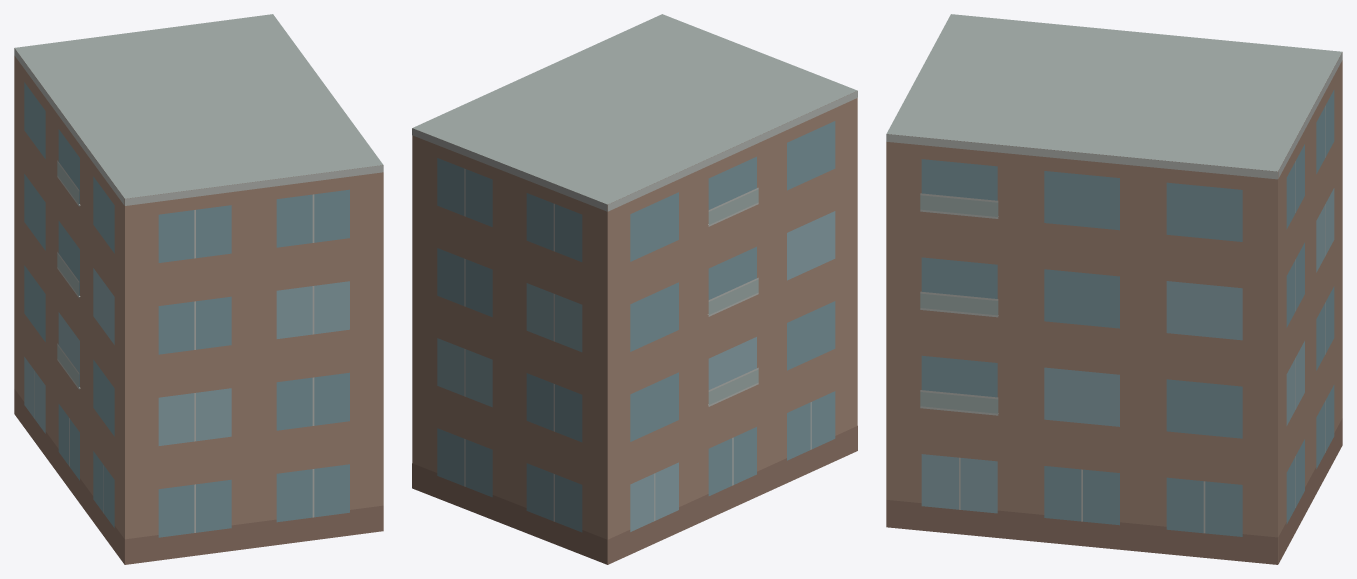
The model's file is residential-b49d4d7a-ee15-402b-9921-5f0622e3a3d1.glb.
The picture shows the model from 3 angles, left to right: view 1: azimuth 30°, elevation 25°; view 2: azimuth 150°, elevation 25°; view 3: azimuth 270°, elevation 25°; orthographic projection. The views are drawn at different scales.
Parts seen in each view (by area): view 1: residential-b49d4d7a-ee15-402b-9921-5f0622e3a3d1.tmp; view 2: residential-b49d4d7a-ee15-402b-9921-5f0622e3a3d1.tmp; view 3: residential-b49d4d7a-ee15-402b-9921-5f0622e3a3d1.tmp.
Part boxes in pixels (x1,y1,x2,y2): residential-b49d4d7a-ee15-402b-9921-5f0622e3a3d1.tmp: (14,14,383,564); residential-b49d4d7a-ee15-402b-9921-5f0622e3a3d1.tmp: (412,14,857,564); residential-b49d4d7a-ee15-402b-9921-5f0622e3a3d1.tmp: (886,14,1342,564).
Bounding box in the file's own units: 10.49 × 12.2 × 12.84.
